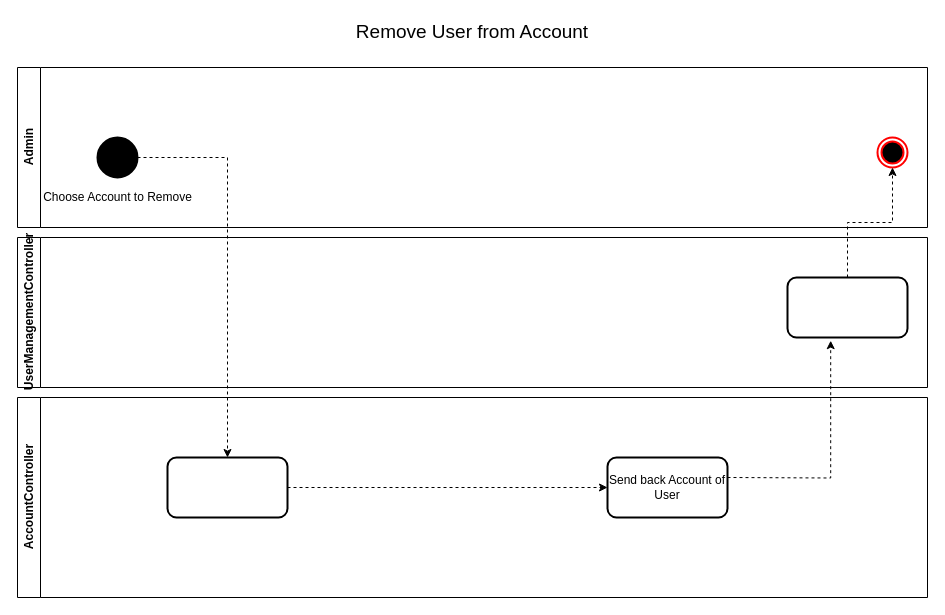
Image size: 945x615. Some labels were removed from this diagram. Here are the shapes that lost their labels. From the top down, the centre of each, then its label:
(x=847, y=307): Display Account List
(x=227, y=487): Delete user id from User_to_Account
